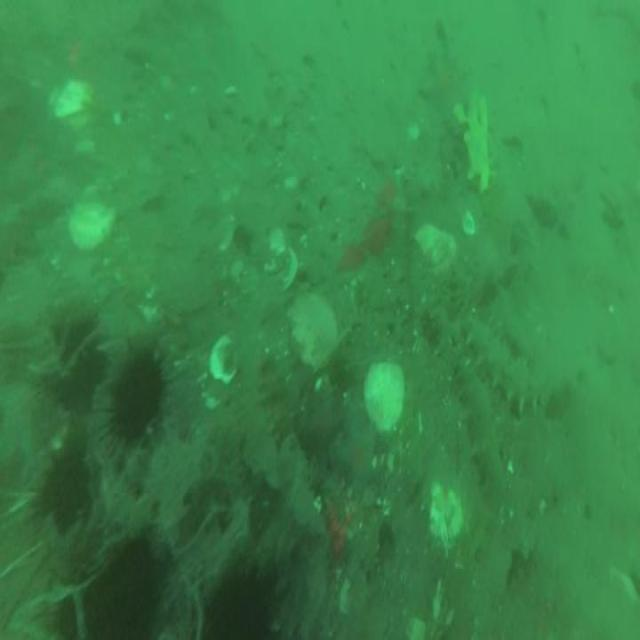echinus: (68, 545, 156, 640), (196, 567, 272, 640), (50, 321, 108, 409), (112, 350, 164, 440), (36, 463, 90, 531)
holothurian: (464, 308, 544, 408), (453, 364, 508, 506)
scallop: (287, 292, 339, 370), (366, 357, 406, 430), (68, 190, 114, 252), (428, 480, 463, 553)
starfish: (338, 426, 378, 492)
